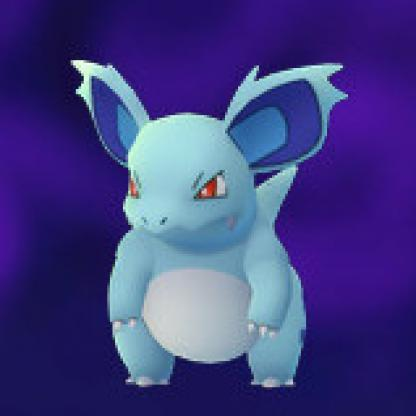Nidorina: (66, 47, 349, 404)
